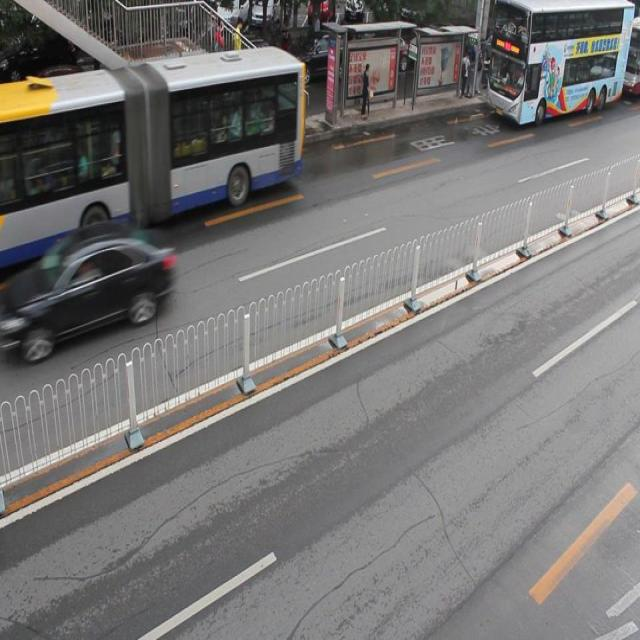car: (1, 227, 172, 361), (1, 66, 97, 133), (104, 52, 192, 119), (205, 36, 274, 100), (292, 33, 357, 90)
van: (1, 63, 303, 264), (482, 1, 631, 129)
